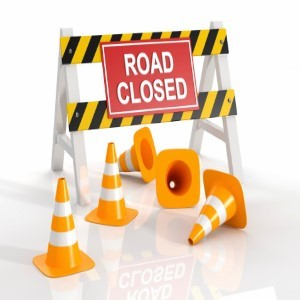traffic cone: (32, 178, 96, 278), (187, 169, 247, 245), (85, 142, 138, 227)
